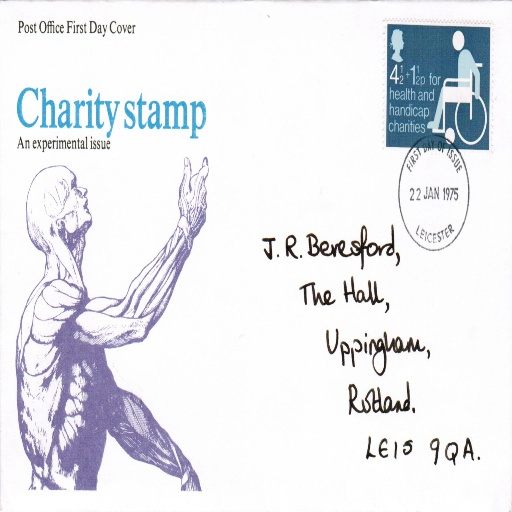hand: (169, 162, 207, 234), (180, 465, 201, 493)
